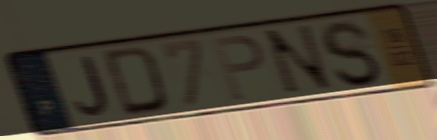7: (159, 36, 208, 111)
D: (100, 43, 171, 119)
J: (72, 53, 113, 119)
N: (260, 22, 338, 100)
P: (207, 32, 267, 104)
S: (318, 18, 384, 90)
